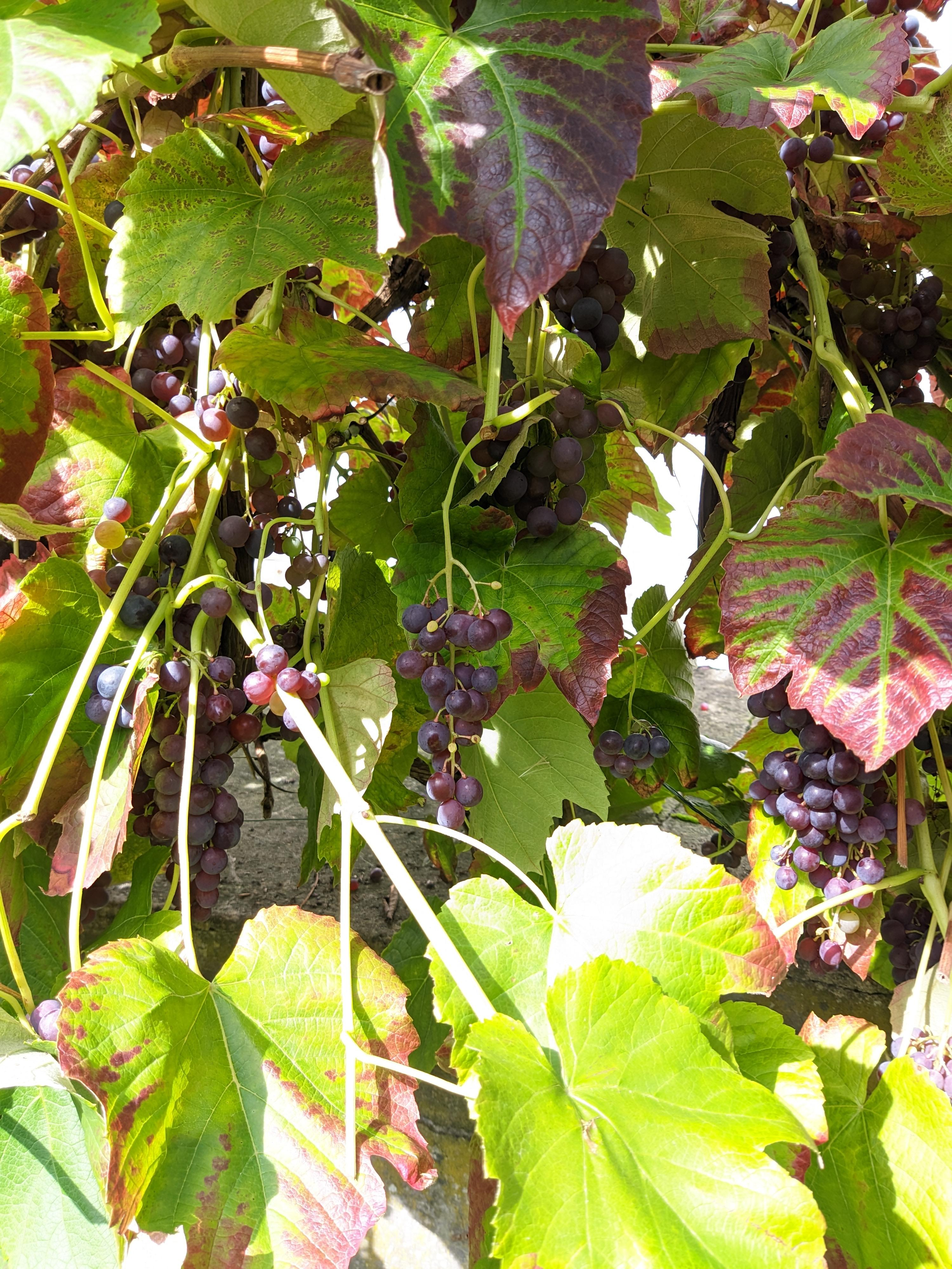Grape Ripe: (738, 682, 924, 967), (86, 650, 259, 920), (93, 487, 274, 640), (461, 381, 627, 543), (87, 324, 292, 453), (399, 596, 512, 828), (779, 0, 920, 183), (838, 250, 952, 403), (544, 229, 637, 372), (217, 488, 336, 588), (247, 643, 341, 741), (880, 894, 945, 982), (0, 157, 62, 249), (871, 1027, 952, 1097), (762, 189, 802, 312), (594, 720, 669, 779), (286, 266, 337, 317), (919, 713, 952, 781)
